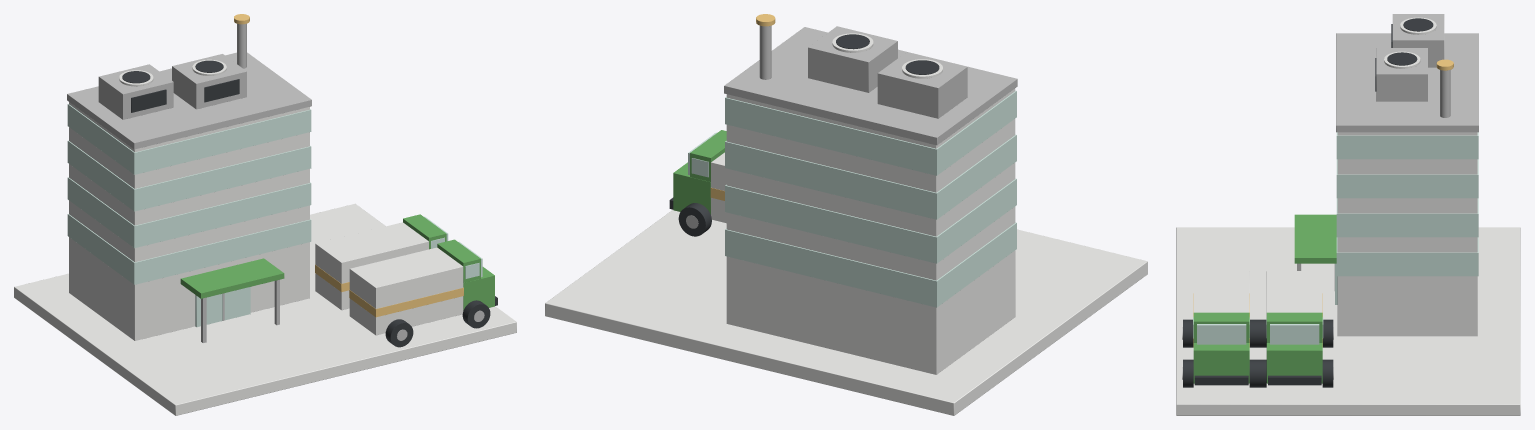
File: facilities.glb
3 views of the same model, side by side, from view 1: azimuth 30°, elevation 25°; view 2: azimuth 150°, elevation 25°; view 3: azimuth 270°, elevation 25° (orthographic). The views are drawn at different scales.
Parts seen in each view (by area): view 1: plaza.006, office, office_parapet, van1_body, office_glass1, office_glass0, office_glass3, office_glass2, van2_body, canopy, hvac0, hvac1 (+9 smaller); view 2: plaza.006, office, office_parapet, office_glass1, office_glass2, office_glass0, office_glass3, hvac0, hvac1, van2_cab, van2_cab_top, van2_body (+2 smaller); view 3: plaza.006, office, office_parapet, office_glass0, office_glass1, office_glass2, office_glass3, van1_body, van2_body, hvac1, canopy, van1_cab (+13 smaller).
Part boxes in pixels (<box>): plaza.006: <box>14,203,516,415</box>; office: <box>69,102,309,340</box>; office_parapet: <box>67,52,311,149</box>; van1_body: <box>349,247,463,335</box>; office_glass1: <box>67,177,311,248</box>; office_glass0: <box>67,214,311,284</box>; office_glass3: <box>67,104,311,174</box>; office_glass2: <box>67,140,311,211</box>; van2_body: <box>315,222,428,310</box>; canopy: <box>180,258,284,298</box>; hvac0: <box>98,64,173,119</box>; hvac1: <box>172,54,246,109</box>; plaza.006: <box>545,210,1147,415</box>; office: <box>726,88,1015,374</box>; office_parapet: <box>724,27,1017,145</box>; office_glass1: <box>725,178,1016,263</box>; office_glass2: <box>725,134,1016,219</box>; office_glass0: <box>725,222,1016,307</box>; office_glass3: <box>725,90,1016,175</box>; hvac0: <box>877,52,967,118</box>; hvac1: <box>808,26,897,92</box>; van2_cab: <box>673,162,710,214</box>; van2_cab_top: <box>690,130,726,181</box>; van2_body: <box>711,152,726,223</box>; plaza.006: <box>1176,227,1520,415</box>; office: <box>1337,132,1477,336</box>; office_parapet: <box>1336,33,1478,132</box>; office_glass0: <box>1336,237,1478,276</box>; office_glass1: <box>1336,198,1478,237</box>; office_glass2: <box>1336,159,1478,198</box>; office_glass3: <box>1336,132,1478,159</box>; van1_body: <box>1193,271,1249,312</box>; van2_body: <box>1266,271,1322,312</box>; hvac1: <box>1376,48,1427,101</box>; canopy: <box>1294,214,1336,263</box>; van1_cab: <box>1193,343,1249,383</box>.
Bounding box in the file's own units: 3.9 × 2.83 × 3.2.
